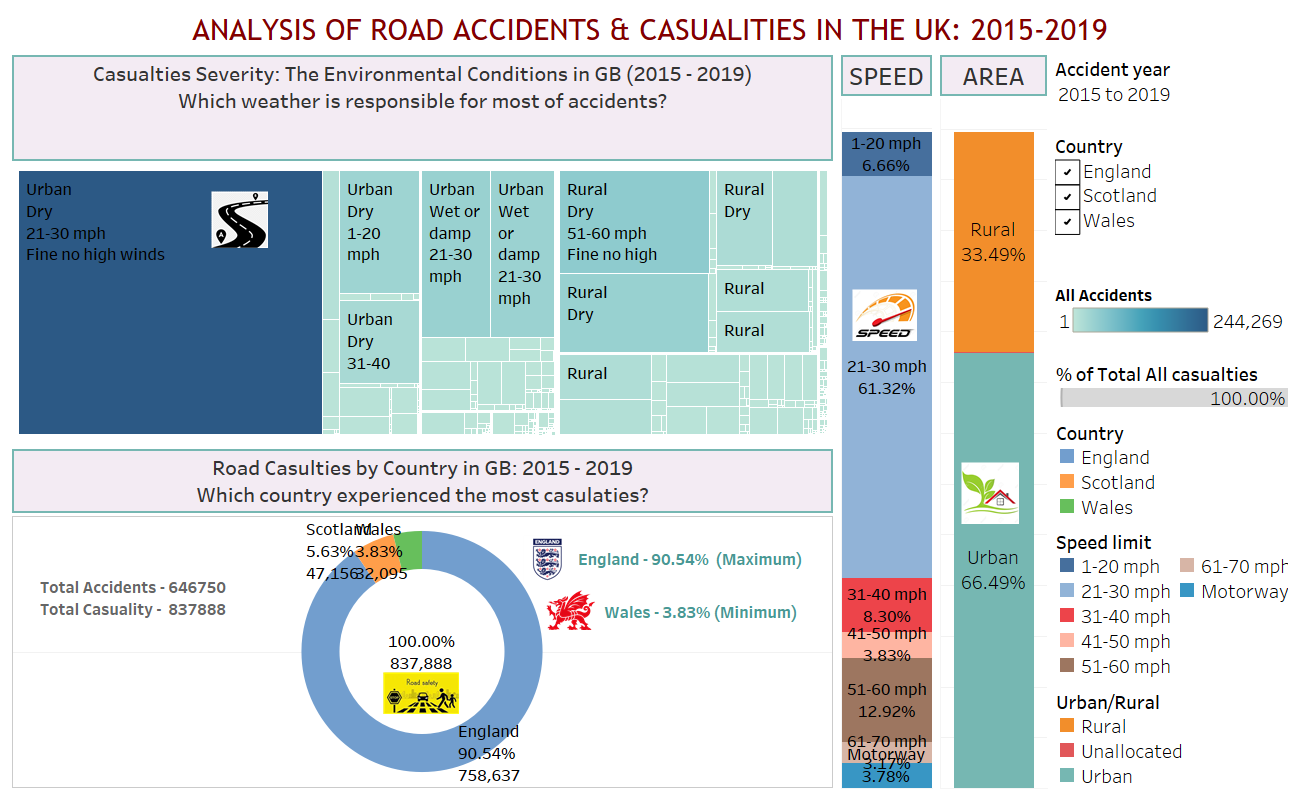

This screenshot's page, from the dashboard's own definition file:
{"tool":"tableau","page":{"name":"Dashboard-2","canvas":[1000,1000],"units":"permille","ordinal":1},"visuals":[{"type":"worksheet","box":[0,0,1000,1000]},{"type":"worksheet","param":"vert","box":[6.2,10,987.7,980]},{"type":"worksheet","box":[6.2,10,987.7,53.8]},{"type":"worksheet","box":[6.2,63.8,987.7,926.2]},{"type":"worksheet","param":"horz","box":[6.2,63.8,987.7,926.2]},{"type":"worksheet","box":[6.2,63.8,637.7,926.2]},{"type":"worksheet","title":"Road Accidents Contributing Factor","mark":"Automatic","box":[6.2,63.8,637.7,492.6]},{"type":"worksheet","title":"SPEED","mark":"Automatic","rows":["All_Accidents"],"box":[643.8,63.8,76.2,926.2]},{"type":"worksheet","title":"AREA","mark":"Automatic","rows":["All_Accidents"],"box":[720,63.8,88.5,926.2]},{"type":"worksheet","param":"vert","box":[808.5,63.8,185.4,926.2]},{"type":"worksheet","title":"Road Accidents Contributing Factor","mark":"Automatic","param":"[federated.0g1ezj31vrk7b11boffyq1j0l24m].[none:Accident_year:qk]","box":[808.5,63.8,185.4,96.2]},{"type":"worksheet","title":"Road Accidents Contributing Factor","mark":"Automatic","param":"[federated.0g1ezj31vrk7b11boffyq1j0l24m].[none:Country:nk]","box":[808.5,160,185.4,185]},{"type":"worksheet","param":"Image/road.png","box":[162.3,238.8,50.8,71.2]},{"type":"worksheet","title":"Road Accidents Contributing Factor","mark":"Automatic","param":"[federated.0g1ezj31vrk7b11boffyq1j0l24m].[sum:All_Accidents:qk]","box":[808.5,345,185.4,97.5]},{"type":"worksheet","param":"Image/Speed.jpg","box":[655.4,353.8,50,80]},{"type":"worksheet","title":"Road Casulties by Country ","mark":"Pie","rows":["All_casualties","All_casualties"],"param":"[federated.0vlvbqs1shhn8g12ybbgz1p7i3uw].[pcto:sum:All_casualties:qk]","box":[808.5,442.5,185.4,73.8]},{"type":"worksheet","title":"Road Casulties by Country ","mark":"Pie","rows":["All_casualties","All_casualties"],"param":"[federated.0vlvbqs1shhn8g12ybbgz1p7i3uw].[none:Country:nk]","box":[808.5,516.2,185.4,136.2]},{"type":"worksheet","title":"Road Casulties by Country ","mark":"Pie","rows":["All_casualties","All_casualties"],"box":[6.2,556.4,637.7,433.6]},{"type":"worksheet","param":"Image/Urban.jpg","box":[739.2,577.5,62.3,77.5]},{"type":"worksheet","title":"SPEED","mark":"Automatic","rows":["All_Accidents"],"param":"[federated.0g1ezj31vrk7b11boffyq1j0l24m].[none:Speed_limit:nk]","box":[808.5,652.5,185.4,201.2]},{"type":"worksheet","param":"Image/England.png","box":[402.3,668.8,49.2,60]},{"type":"worksheet","box":[441.5,677.5,185.4,42.5]},{"type":"worksheet","box":[15.4,680,173.8,135]},{"type":"worksheet","param":"Image/wales.png","box":[420,737.5,42.3,50]},{"type":"worksheet","box":[461.5,743.8,161.5,42.5]},{"type":"worksheet","param":"Image/Road_casuality.jpg","box":[294.6,840,58.5,116.2]},{"type":"worksheet","title":"AREA","mark":"Automatic","rows":["All_Accidents"],"param":"[federated.0g1ezj31vrk7b11boffyq1j0l24m].[none:Urban/Rural:nk]","box":[808.5,853.8,185.4,136.2]}]}

Visuals, with their boxes on the dashboard's canvas, which has no fixed pixel size, in thousandths of its width and height (x1, y1, x2, y2). These are canvas units, not pixel positions in the 1300x800 screenshot, which may show the page scaled, cropped or inside an application window:
worksheet: {"x1": 0, "y1": 0, "x2": 1000, "y2": 1000}
worksheet: {"x1": 6, "y1": 10, "x2": 994, "y2": 990}
worksheet: {"x1": 6, "y1": 10, "x2": 994, "y2": 64}
worksheet: {"x1": 6, "y1": 64, "x2": 994, "y2": 990}
worksheet: {"x1": 6, "y1": 64, "x2": 994, "y2": 990}
worksheet: {"x1": 6, "y1": 64, "x2": 644, "y2": 990}
"Road Accidents Contributing Factor" worksheet: {"x1": 6, "y1": 64, "x2": 644, "y2": 556}
"SPEED" worksheet: {"x1": 644, "y1": 64, "x2": 720, "y2": 990}
"AREA" worksheet: {"x1": 720, "y1": 64, "x2": 808, "y2": 990}
worksheet: {"x1": 808, "y1": 64, "x2": 994, "y2": 990}
"Road Accidents Contributing Factor" worksheet: {"x1": 808, "y1": 64, "x2": 994, "y2": 160}
"Road Accidents Contributing Factor" worksheet: {"x1": 808, "y1": 160, "x2": 994, "y2": 345}
worksheet: {"x1": 162, "y1": 239, "x2": 213, "y2": 310}
"Road Accidents Contributing Factor" worksheet: {"x1": 808, "y1": 345, "x2": 994, "y2": 442}
worksheet: {"x1": 655, "y1": 354, "x2": 705, "y2": 434}
"Road Casulties by Country " worksheet (Pie marks): {"x1": 808, "y1": 442, "x2": 994, "y2": 516}
"Road Casulties by Country " worksheet (Pie marks): {"x1": 808, "y1": 516, "x2": 994, "y2": 652}
"Road Casulties by Country " worksheet (Pie marks): {"x1": 6, "y1": 556, "x2": 644, "y2": 990}
worksheet: {"x1": 739, "y1": 578, "x2": 802, "y2": 655}
"SPEED" worksheet: {"x1": 808, "y1": 652, "x2": 994, "y2": 854}
worksheet: {"x1": 402, "y1": 669, "x2": 452, "y2": 729}
worksheet: {"x1": 442, "y1": 678, "x2": 627, "y2": 720}
worksheet: {"x1": 15, "y1": 680, "x2": 189, "y2": 815}
worksheet: {"x1": 420, "y1": 738, "x2": 462, "y2": 788}
worksheet: {"x1": 462, "y1": 744, "x2": 623, "y2": 786}
worksheet: {"x1": 295, "y1": 840, "x2": 353, "y2": 956}
"AREA" worksheet: {"x1": 808, "y1": 854, "x2": 994, "y2": 990}
